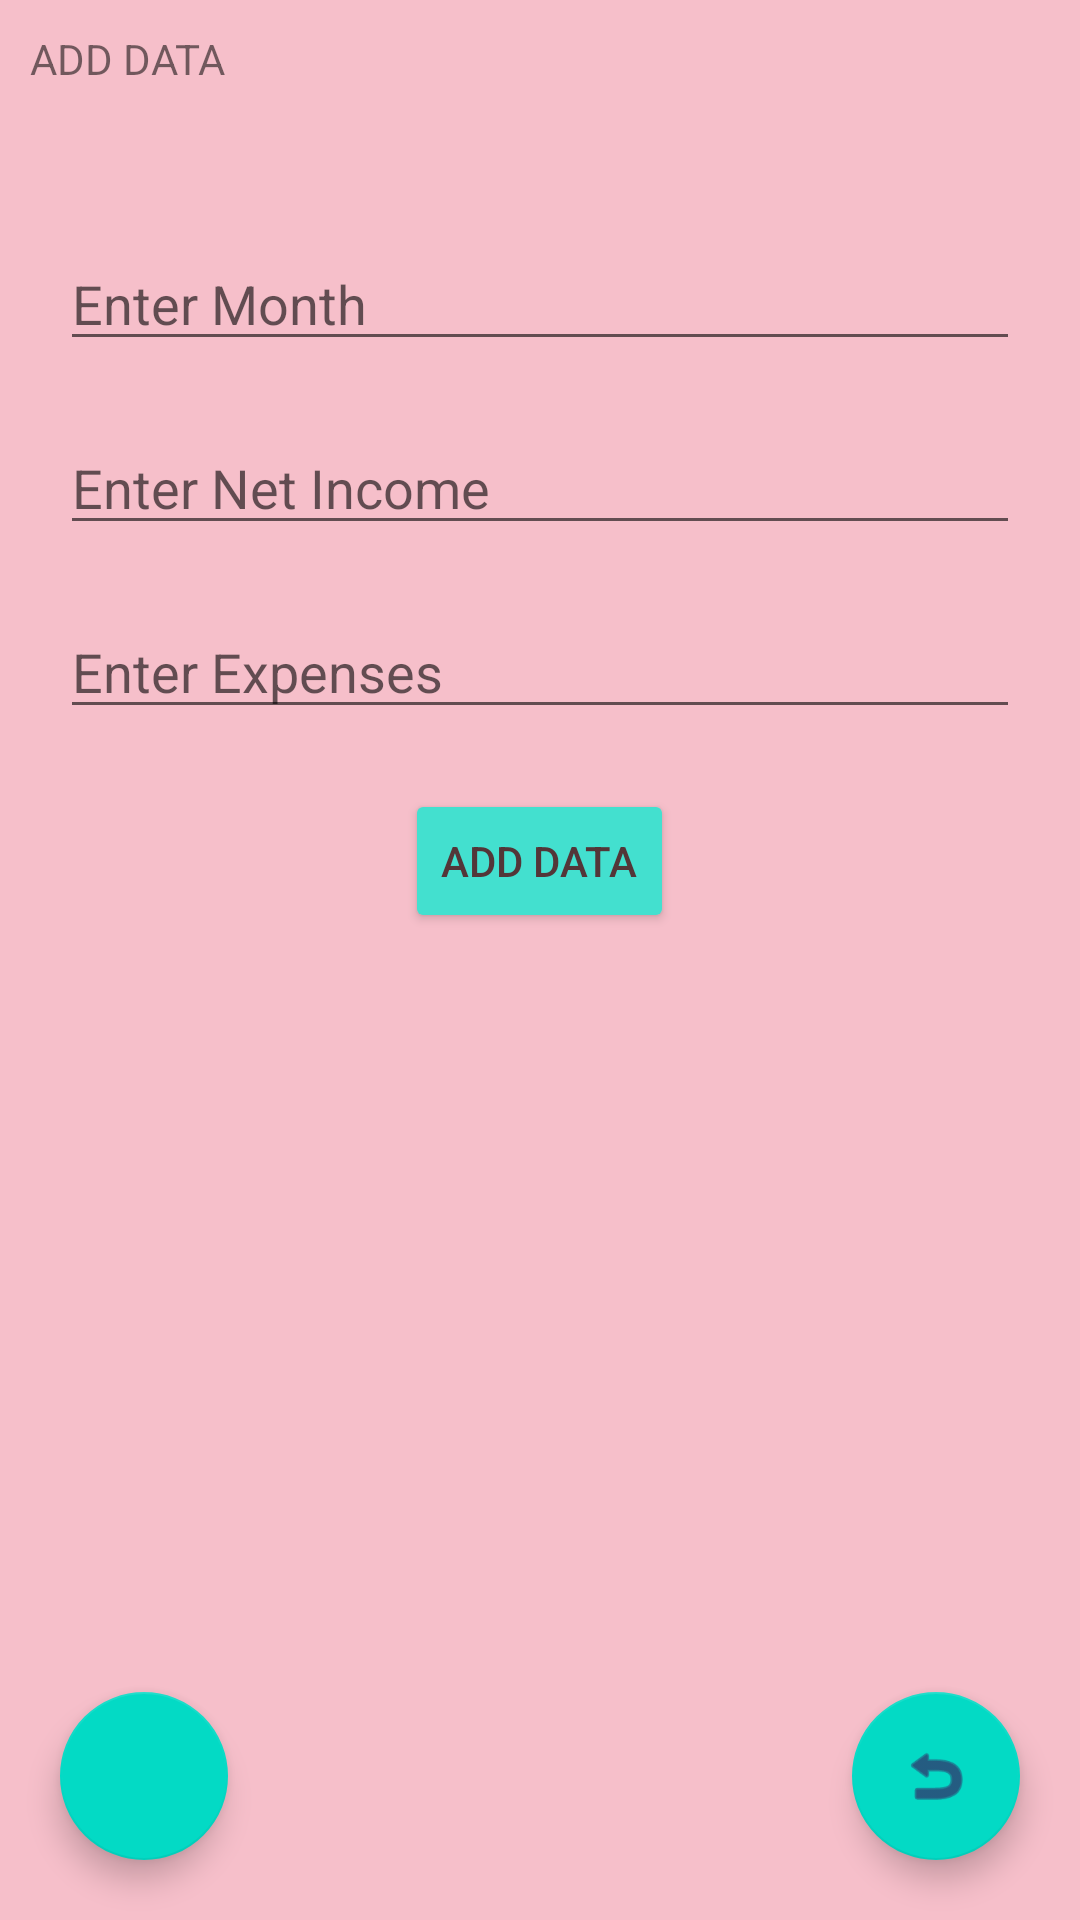

Point at icon controls on the screen. Image size 1080 x 1920, points as (x,y).
revert: (936,1776)
